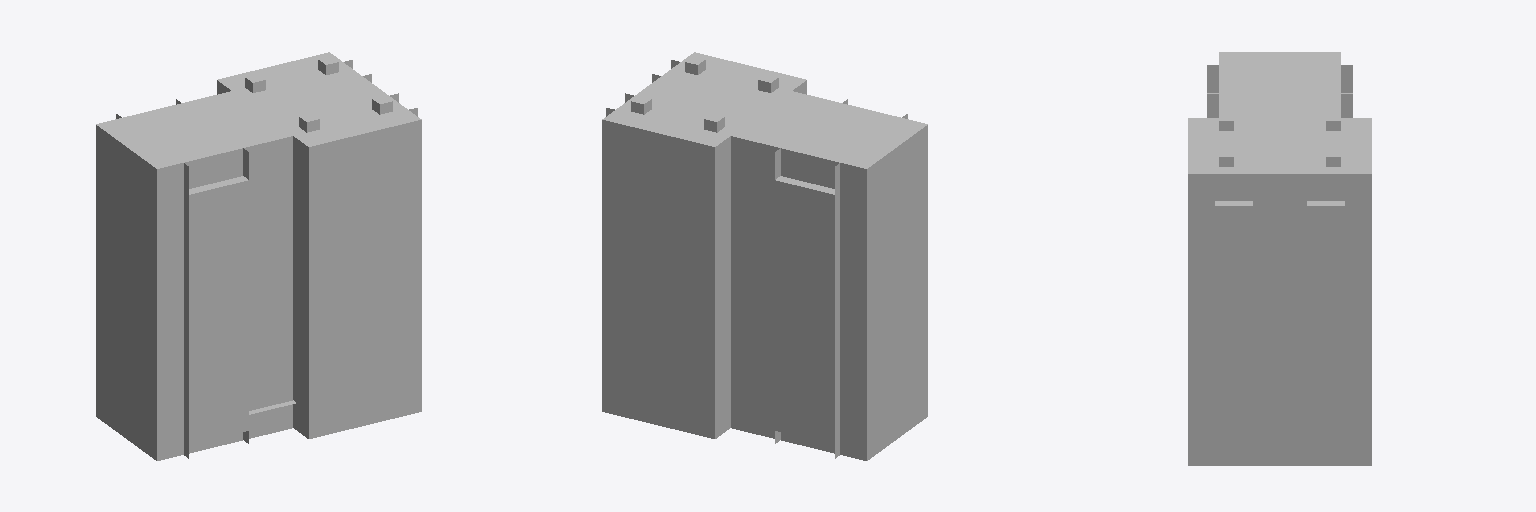
File: rus_build_9et_01b_LOD1_2.obj
3 renders of one model, left to right at view 1: azimuth 30°, elevation 25°; view 2: azimuth 150°, elevation 25°; view 3: azimuth 270°, elevation 25°, orthographic.
Visible parts, largest first — view 1: rus_build_9et_01b_LOD1; view 2: rus_build_9et_01b_LOD1; view 3: rus_build_9et_01b_LOD1.
Boxes of the visible parts, box(x1,y1,x2,y2) form: rus_build_9et_01b_LOD1: box(96, 52, 421, 460); rus_build_9et_01b_LOD1: box(602, 52, 927, 460); rus_build_9et_01b_LOD1: box(1188, 52, 1371, 465).
Bounding box in the file's own units: 78 × 87 × 48.